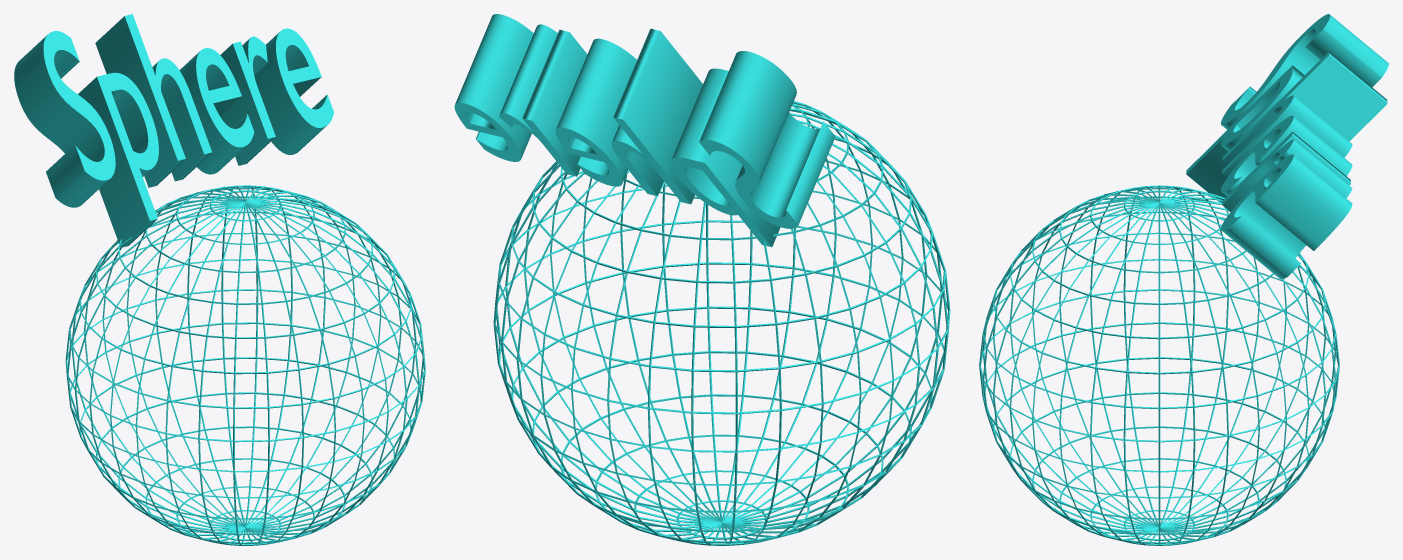
Rendered from spheretext.gltf.
3 renders of one model, left to right at view 1: azimuth 30°, elevation 25°; view 2: azimuth 150°, elevation 25°; view 3: azimuth 270°, elevation 25°, orthographic. The views are drawn at different scales.
Visible parts, largest first — view 1: Sphere, Spehere; view 2: Sphere, Spehere; view 3: Sphere, Spehere.
Boxes of the visible parts, x1=… form: Sphere: x1=65, y1=185, x2=425, y2=545; Spehere: x1=14, y1=14, x2=333, y2=247; Sphere: x1=493, y1=101, x2=950, y2=545; Spehere: x1=454, y1=14, x2=835, y2=247; Sphere: x1=979, y1=185, x2=1339, y2=545; Spehere: x1=1186, y1=14, x2=1388, y2=279.
Size of the model in its own units: 151 by 213 by 171.
